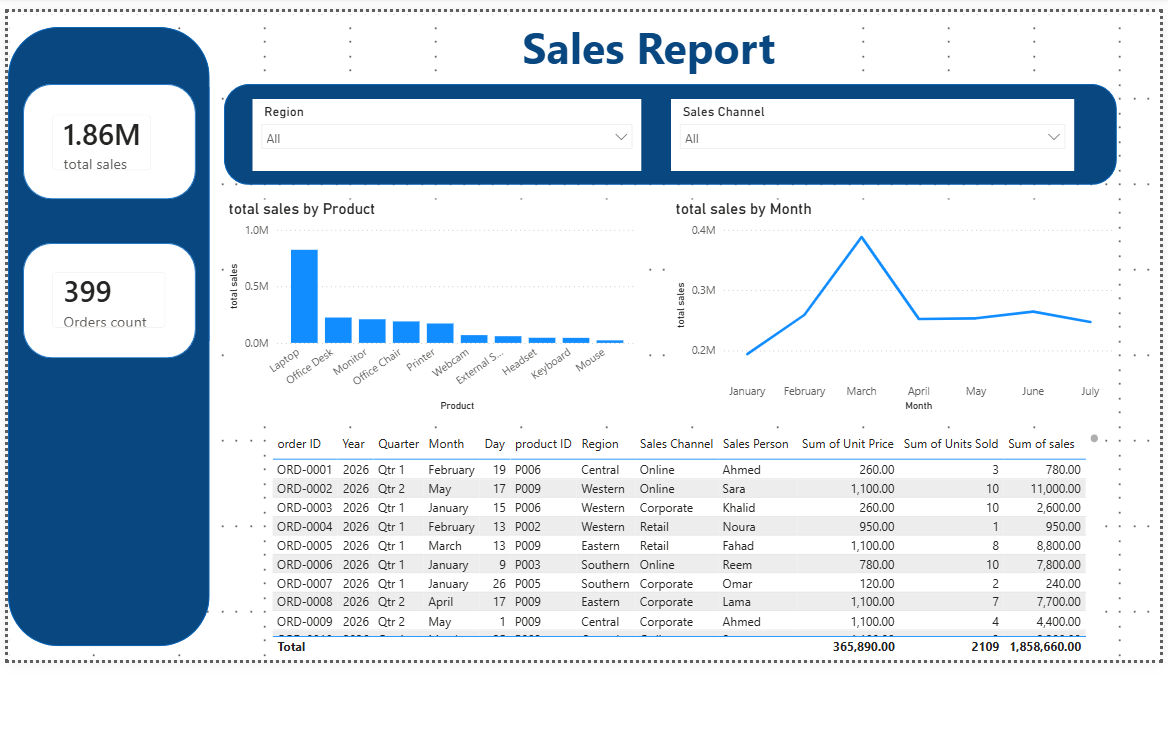

Layout of this report page (visuals, bound fields, positions):
{"tool":"powerbi","page":{"name":"Page ١","canvas":[1280,720],"ordinal":0},"visuals":[{"type":"shape","box":[0,16,224,688],"z":0},{"type":"shape","box":[240,80,992,112],"z":1000},{"type":"shape","box":[16,80,192,128],"z":2000},{"type":"textbox","box":[560,0,304,80],"z":3000},{"type":"cardVisual","fields":{"Data":["SalesTable.total sales"]},"box":[32,96,144,96],"z":4000},{"type":"shape","box":[16,256,192,128],"z":5000},{"type":"cardVisual","fields":{"Data":["SalesTable.Orders count"]},"box":[32,272,160,96],"z":6000},{"type":"columnChart","fields":{"Y":["SalesTable.total sales"],"Category":["ProductsTable.Product"]},"box":[240,208,464,240],"z":7000},{"type":"lineChart","fields":{"Category":["SalesTable.Order Date.Variation.Date Hierarchy.Month","SalesTable.Order Date.Variation.Date Hierarchy.Day"],"Y":["SalesTable.total sales"]},"box":[736,208,496,240],"z":8000},{"type":"tableEx","fields":{"Values":["SalesTable.order ID","SalesTable.Order Date.Variation.Date Hierarchy.Year","SalesTable.Order Date.Variation.Date Hierarchy.Quarter","SalesTable.Order Date.Variation.Date Hierarchy.Month","SalesTable.Order Date.Variation.Date Hierarchy.Day","SalesTable.product ID","SalesTable.Region","SalesTable.Sales Channel","SalesTable.Sales Person","Sum(SalesTable.Unit Price)","Sum(SalesTable.Units Sold)","Sum(SalesTable.sales)"]},"box":[288,464,928,256],"z":9000},{"type":"slicer","fields":{"Values":["SalesTable.Region"]},"box":[272,96,432,80],"z":10000},{"type":"slicer","fields":{"Values":["SalesTable.Sales Channel"]},"box":[736,96,448,80],"z":11000},{"type":"shape","box":[0,464,208,128],"z":12000},{"type":"cardVisual","fields":{"Data":["Sum(SalesTable.Units Sold)"]},"box":[0,480,192,96],"z":13000}]}

Visuals, with their boxes in screenshot pixels (x1, y1, x2, y2):
shape: [3,24,205,643]
shape: [219,81,1112,182]
shape: [17,81,190,196]
textbox: [507,9,781,81]
cardVisual - SalesTable.total sales: [32,96,161,182]
shape: [17,239,190,355]
cardVisual - SalesTable.Orders count: [32,254,176,340]
columnChart - SalesTable.total sales x ProductsTable.Product: [219,196,637,412]
lineChart - SalesTable.Order Date.Variation.Date Hierarchy.Month x SalesTable.Order Date.Variation.Date Hierarchy.Day: [665,196,1112,412]
tableEx - SalesTable.order ID x SalesTable.Order Date.Variation.Date Hierarchy.Year: [262,427,1097,657]
slicer - SalesTable.Region: [248,96,637,168]
slicer - SalesTable.Sales Channel: [665,96,1069,168]
shape: [3,427,190,542]
cardVisual - Sum(SalesTable.Units Sold): [3,441,176,527]
